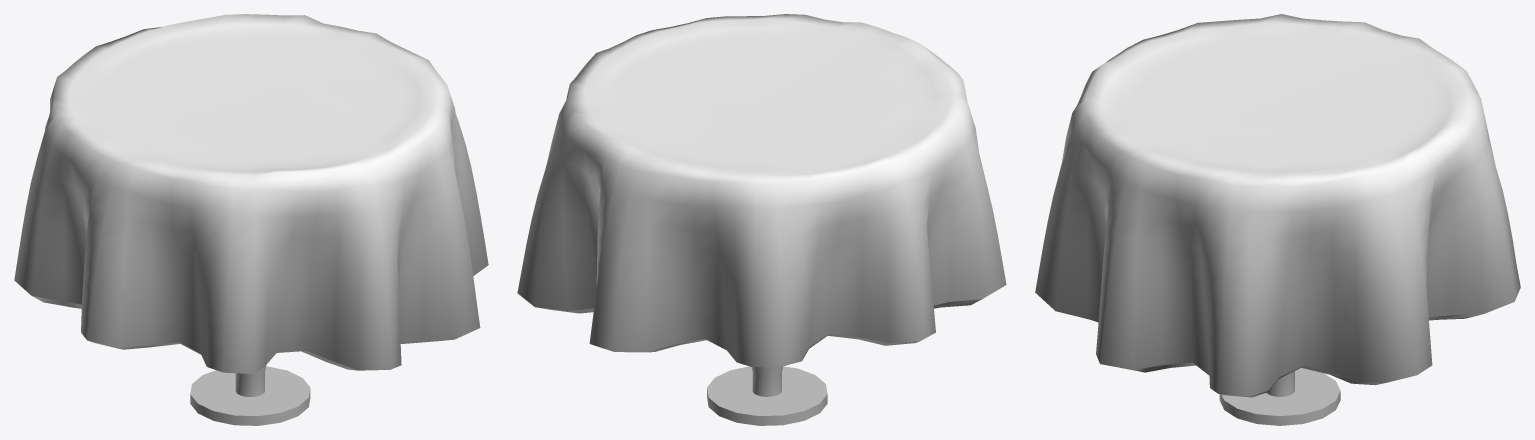
The model's file is Table.fbx.
The picture shows the model from 3 angles, left to right: view 1: azimuth 30°, elevation 25°; view 2: azimuth 150°, elevation 25°; view 3: azimuth 270°, elevation 25°; orthographic projection.
Parts seen in each view (by area): view 1: tablecloth, table; view 2: tablecloth, table; view 3: tablecloth, table.
Boxes of the visible parts, left/top/right/bottom form: tablecloth: left=14, top=14, right=488, bottom=374; table: left=190, top=365, right=310, bottom=425; tablecloth: left=517, top=14, right=1006, bottom=366; table: left=707, top=366, right=827, bottom=425; tablecloth: left=1035, top=14, right=1520, bottom=397; table: left=1219, top=368, right=1340, bottom=425.
Bounding box in the file's own units: 7.9 × 5.65 × 8.1.
